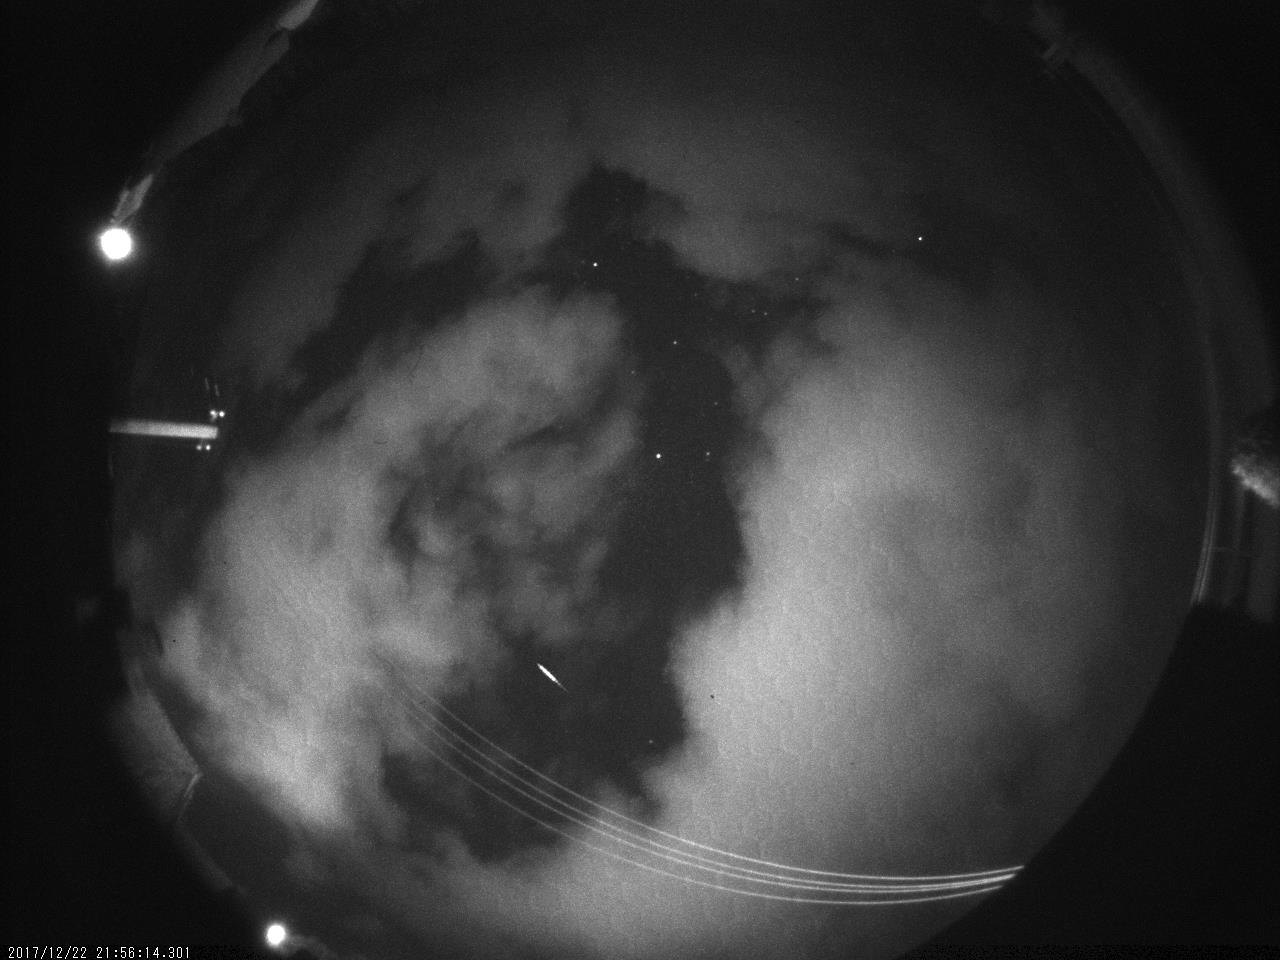meteor: (515, 656, 577, 700)
